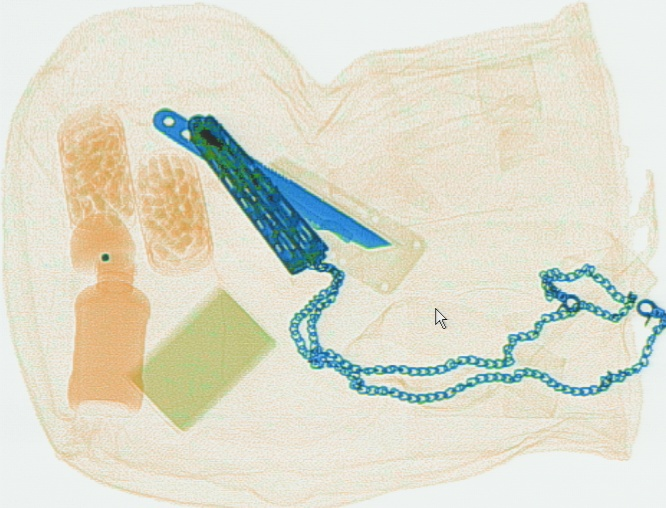knife: (151, 106, 427, 296), (187, 112, 335, 277)
